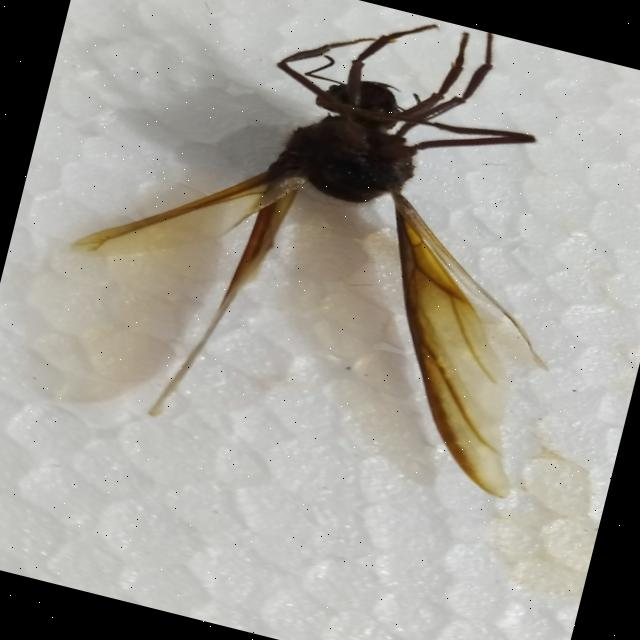Dead-Female-Alate: (35, 0, 624, 507)
